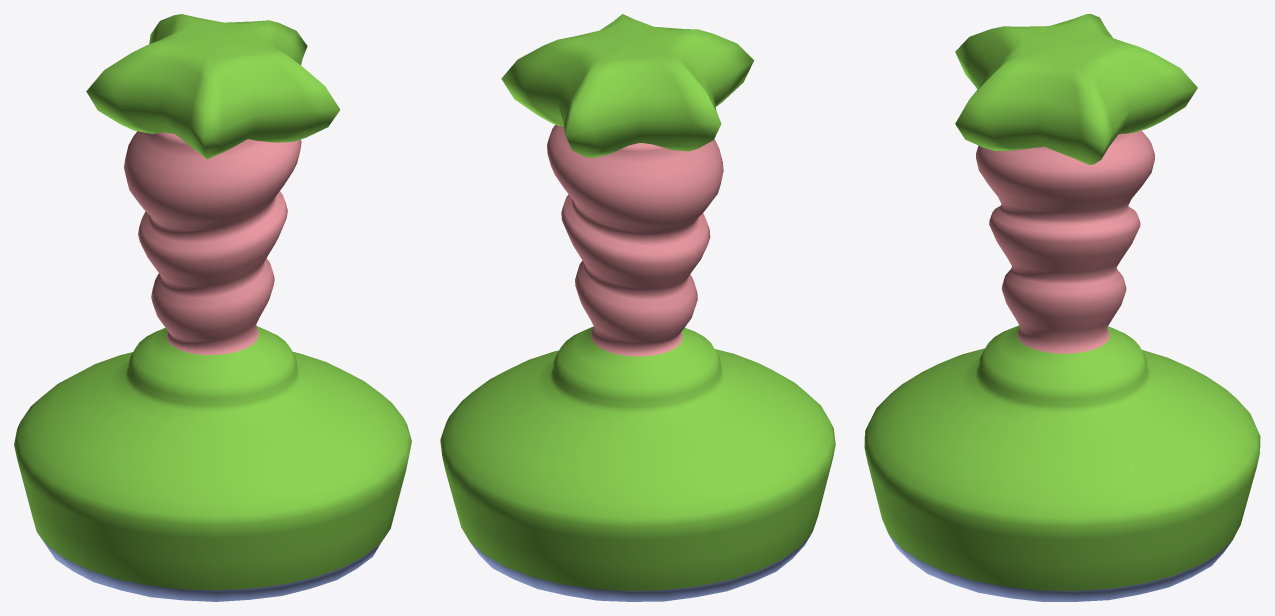
File: stamp1.fbx
The picture shows the model from 3 angles, left to right: view 1: azimuth 30°, elevation 25°; view 2: azimuth 150°, elevation 25°; view 3: azimuth 270°, elevation 25°; orthographic projection.
Visible parts, largest first — view 1: Cylinder.001; view 2: Cylinder.001; view 3: Cylinder.001.
Boxes of the visible parts, bbox=[...] form: Cylinder.001: bbox=[14, 14, 411, 601]; Cylinder.001: bbox=[440, 14, 835, 601]; Cylinder.001: bbox=[864, 14, 1260, 601].
Size of the model in its own units: 68.2 by 94.23 by 68.2.
